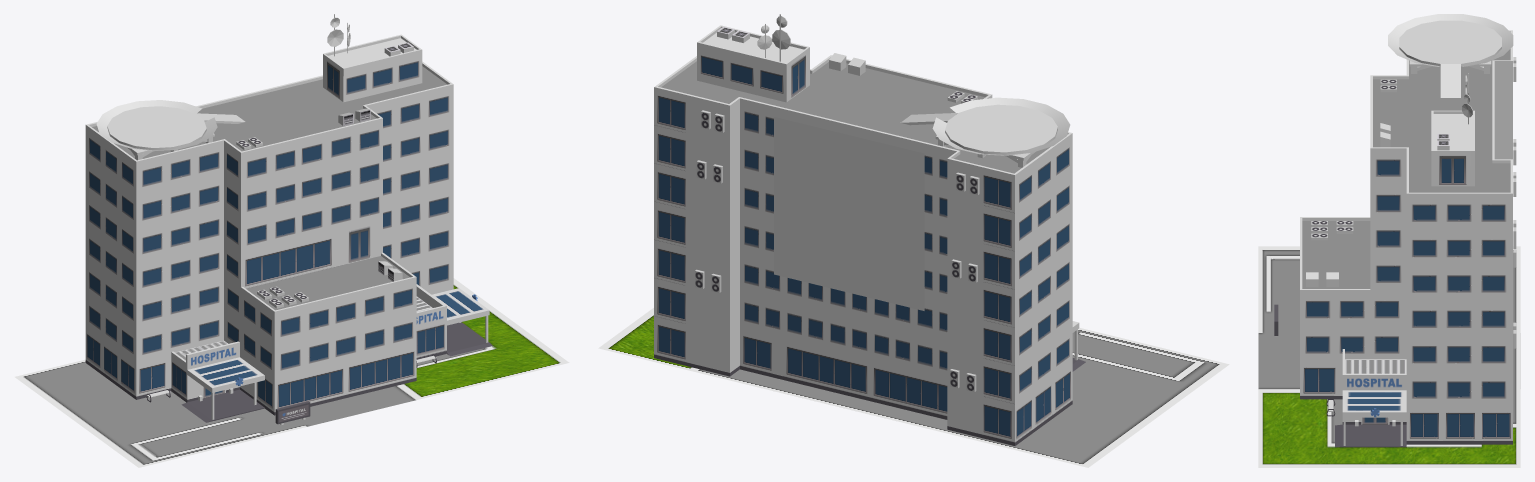
File: Hospital_Huge.fbx
3 renders of one model, left to right at view 1: azimuth 30°, elevation 25°; view 2: azimuth 150°, elevation 25°; view 3: azimuth 270°, elevation 25°, orthographic. The views are drawn at different scales.
Visible parts, largest first — view 1: Hospital_Huge, Hospital_BG_Huge, HelicopterPlace, HelicopterPlace_Alpha_DoubleSided; view 2: Hospital_Huge, Graffiti_001, Hospital_BG_Huge, HelicopterPlace, HelicopterPlace_Alpha_DoubleSided; view 3: Hospital_Huge, Hospital_BG_Huge, HelicopterPlace, HelicopterPlace_Alpha_DoubleSided.
Boxes of the visible parts, bbox=[...] form: Hospital_Huge: bbox=[85, 14, 492, 425]; Hospital_BG_Huge: bbox=[15, 278, 569, 467]; HelicopterPlace: bbox=[107, 106, 245, 160]; HelicopterPlace_Alpha_DoubleSided: bbox=[96, 100, 217, 150]; Hospital_Huge: bbox=[654, 14, 1085, 445]; Graffiti_001: bbox=[774, 117, 924, 310]; Hospital_BG_Huge: bbox=[598, 308, 1229, 467]; HelicopterPlace: bbox=[900, 104, 1057, 167]; HelicopterPlace_Alpha_DoubleSided: bbox=[932, 97, 1070, 155]; Hospital_Huge: bbox=[1274, 30, 1516, 447]; Hospital_BG_Huge: bbox=[1258, 246, 1520, 467]; HelicopterPlace: bbox=[1399, 20, 1501, 97]; HelicopterPlace_Alpha_DoubleSided: bbox=[1388, 14, 1513, 66].
Bounding box in the file's own units: 4000 × 2738 × 2000.
